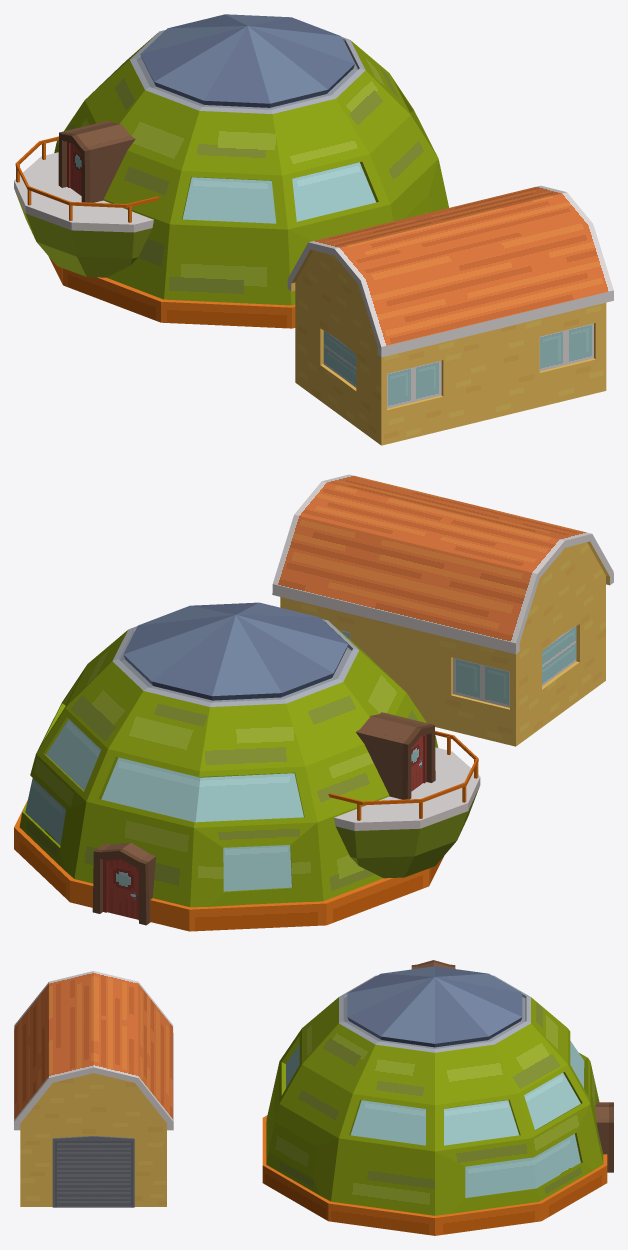
The model's file is W.house_green.gltf.
3 views of the same model, one above another, from view 1: azimuth 30°, elevation 25°; view 2: azimuth 150°, elevation 25°; view 3: azimuth 270°, elevation 25° (orthographic). The views are drawn at different scales.
Parts seen in each view (by area): view 1: s4_1, s4_dop; view 2: s4_1, s4_dop; view 3: s4_1, s4_dop.
Boxes of the visible parts, bbox=[...] form: s4_1: bbox=[14, 14, 448, 328]; s4_dop: bbox=[287, 185, 613, 445]; s4_1: bbox=[14, 602, 480, 931]; s4_dop: bbox=[272, 474, 613, 746]; s4_1: bbox=[262, 960, 613, 1235]; s4_dop: bbox=[14, 971, 173, 1207].
Bounding box in the file's own units: 5.08 × 2.57 × 7.64.
Materials: 2 (2 with a texture image).
